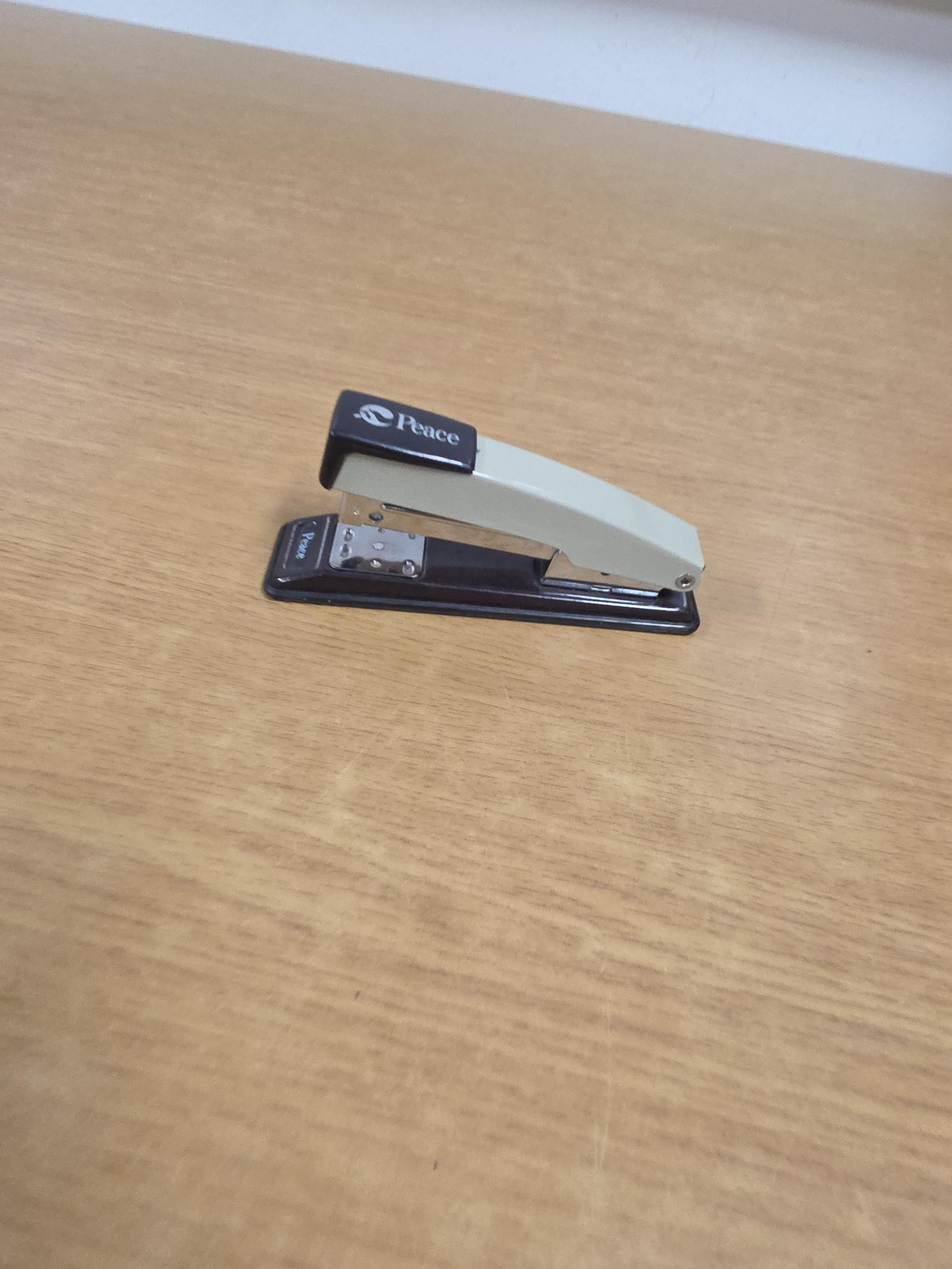stapler: (262, 389, 706, 635)
